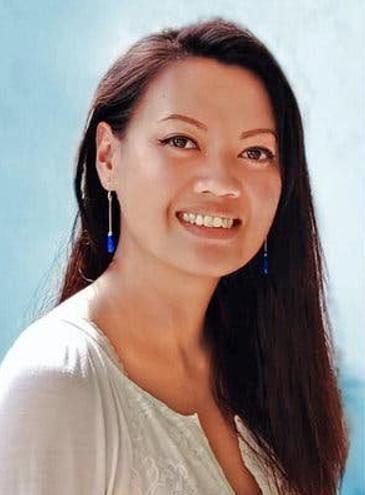Sober: (130, 65, 282, 273)
